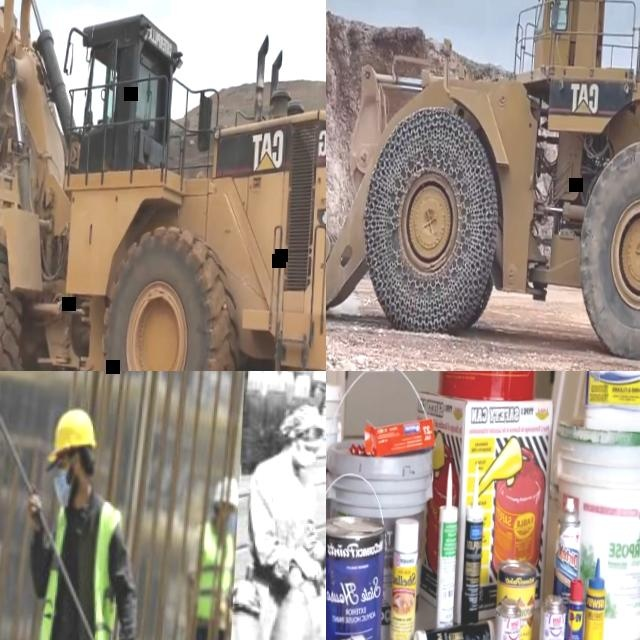Hardhat: (48, 409, 104, 459), (210, 474, 237, 508)
Mask: (52, 472, 72, 503), (293, 448, 315, 468), (221, 510, 235, 535)
NO-Hardhat: (281, 402, 326, 438)
NO-Safety Vest: (268, 460, 319, 545), (314, 371, 326, 386)
Person: (16, 400, 142, 640), (245, 400, 326, 581), (172, 477, 237, 640), (309, 371, 326, 411)
Safety Vest: (35, 496, 123, 640), (189, 526, 234, 618)
machinery: (0, 0, 326, 371), (326, 0, 640, 367)
